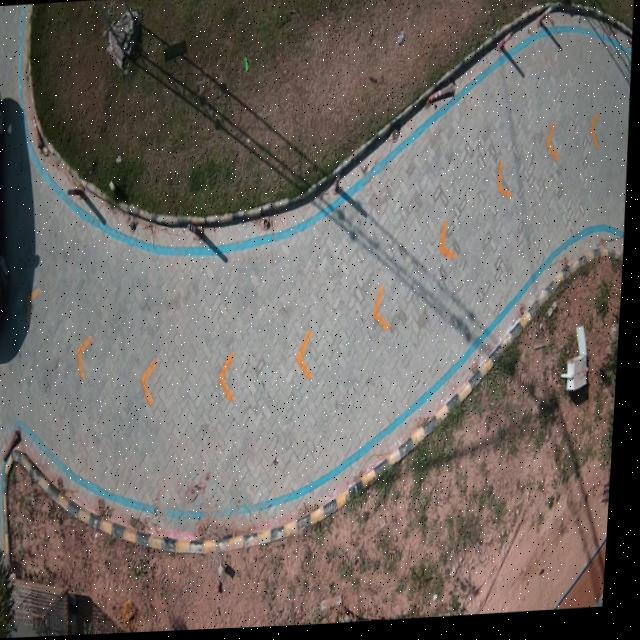car: (0, 85, 14, 333)
